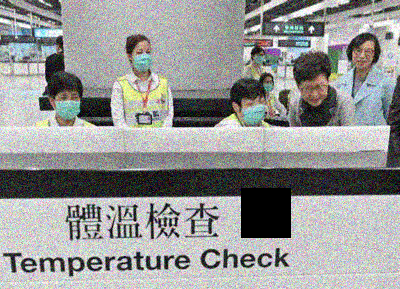with_mask: (242, 94, 268, 125), (54, 92, 82, 120), (132, 47, 153, 71), (254, 51, 266, 64), (263, 79, 275, 92)
without_mask: (302, 81, 330, 107), (352, 45, 377, 67)
